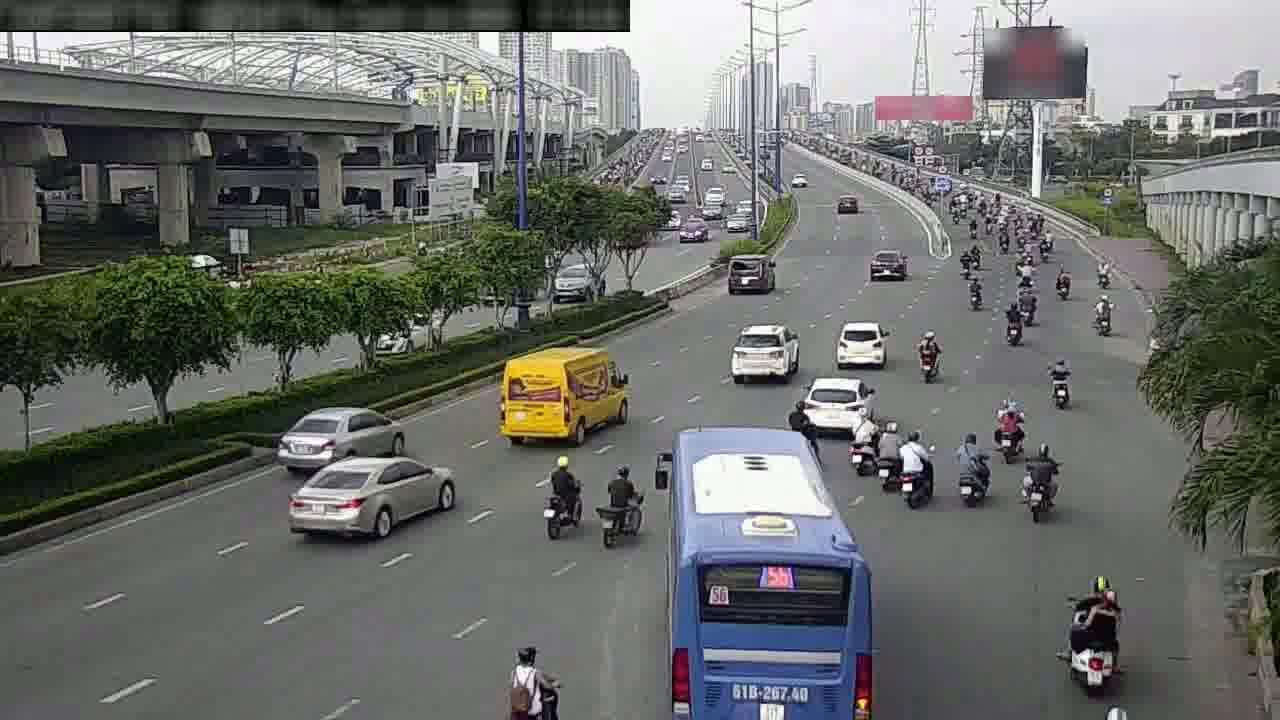14: (673, 419, 861, 720), (502, 343, 622, 435), (726, 252, 774, 296)
container: (300, 436, 449, 535), (285, 398, 400, 473), (796, 369, 871, 434), (731, 319, 799, 383), (834, 314, 889, 370), (866, 245, 905, 283)
motorbike: (1065, 561, 1128, 689), (595, 459, 646, 550), (506, 639, 566, 710), (540, 451, 587, 538), (951, 424, 994, 509), (1017, 437, 1059, 515), (903, 431, 938, 506), (989, 395, 1024, 458), (875, 418, 903, 495), (847, 409, 876, 480), (912, 327, 943, 384), (1045, 353, 1076, 410), (1000, 299, 1026, 347), (787, 398, 815, 442), (1089, 292, 1115, 337), (963, 272, 987, 312), (1092, 253, 1115, 292), (1052, 263, 1074, 302), (1020, 284, 1041, 322), (1014, 257, 1034, 293), (955, 246, 974, 278)
